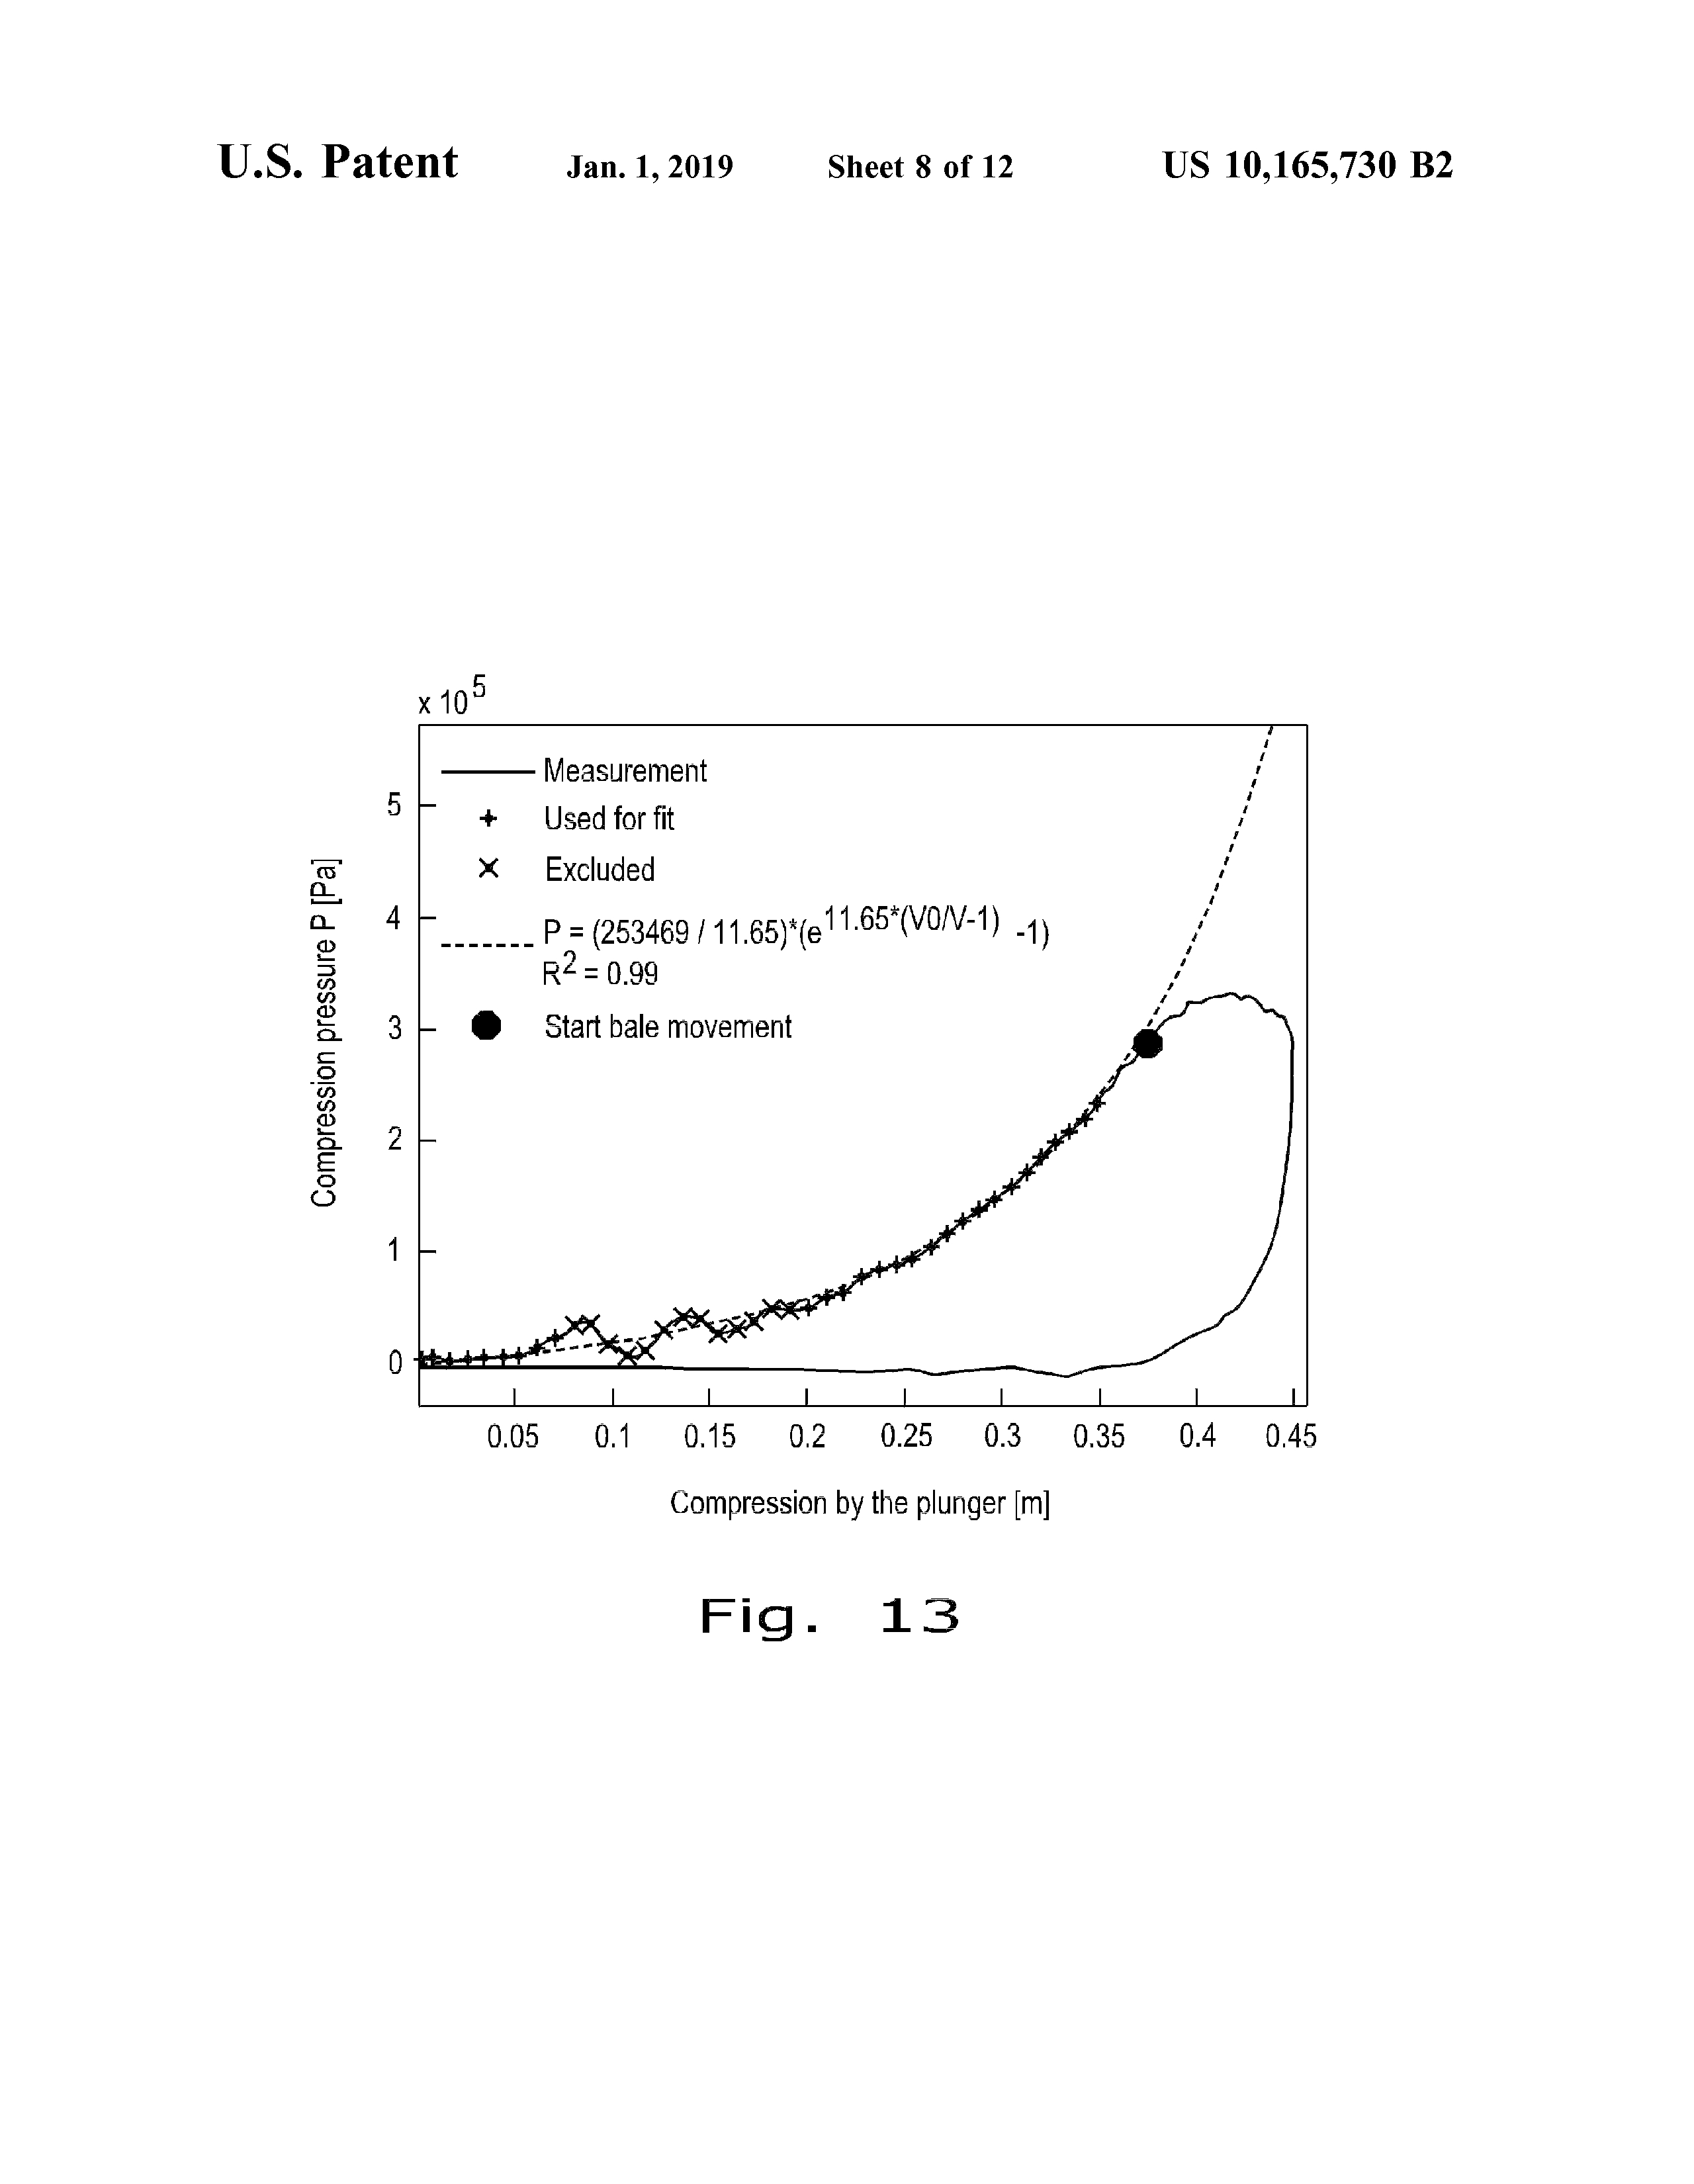patent image: (279, 633, 1404, 1672)
